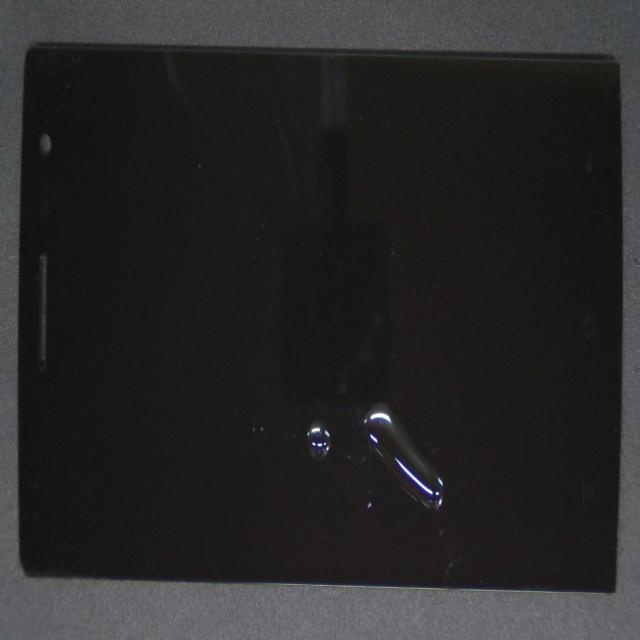oil: (263, 265, 640, 640), (163, 200, 466, 634)
